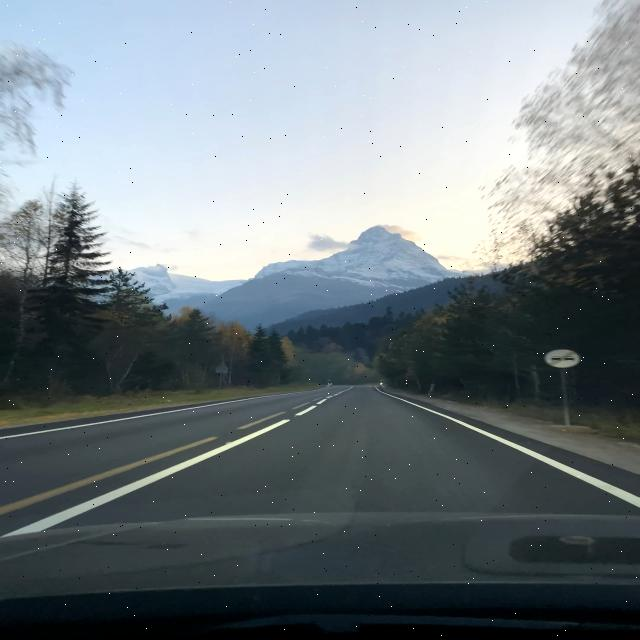lane: (384, 392, 639, 506), (2, 432, 260, 537)
road: (1, 385, 639, 637)
